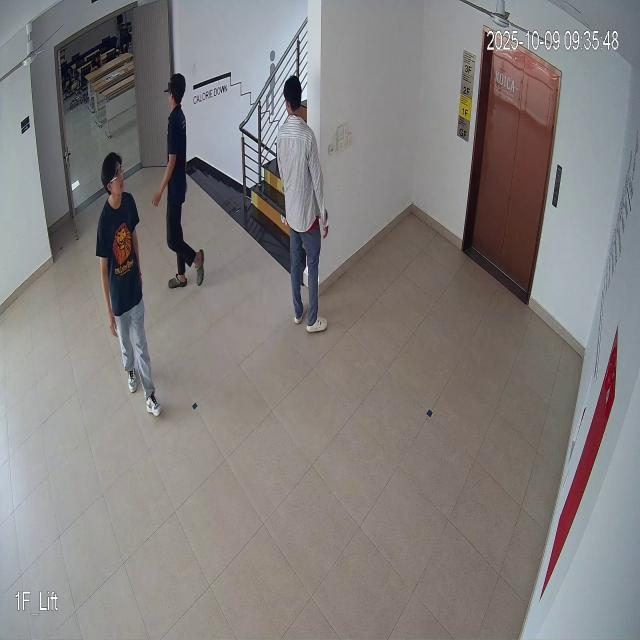face: (97, 142, 129, 205)
